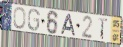2: (81, 15, 94, 40)
6: (46, 10, 59, 36)
A: (60, 13, 76, 37)
G: (27, 8, 41, 33)
O: (13, 6, 27, 30)
T: (97, 17, 108, 41)
